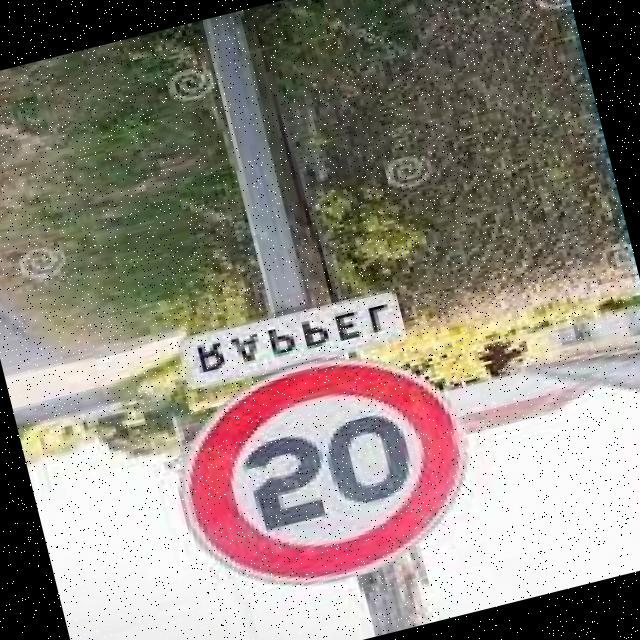speed_limit_50: (147, 321, 509, 618)
